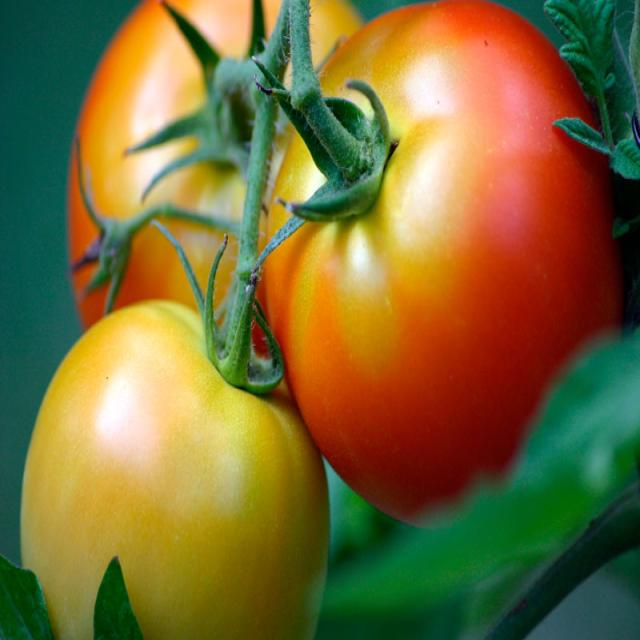yesil: (0, 262, 326, 640)
